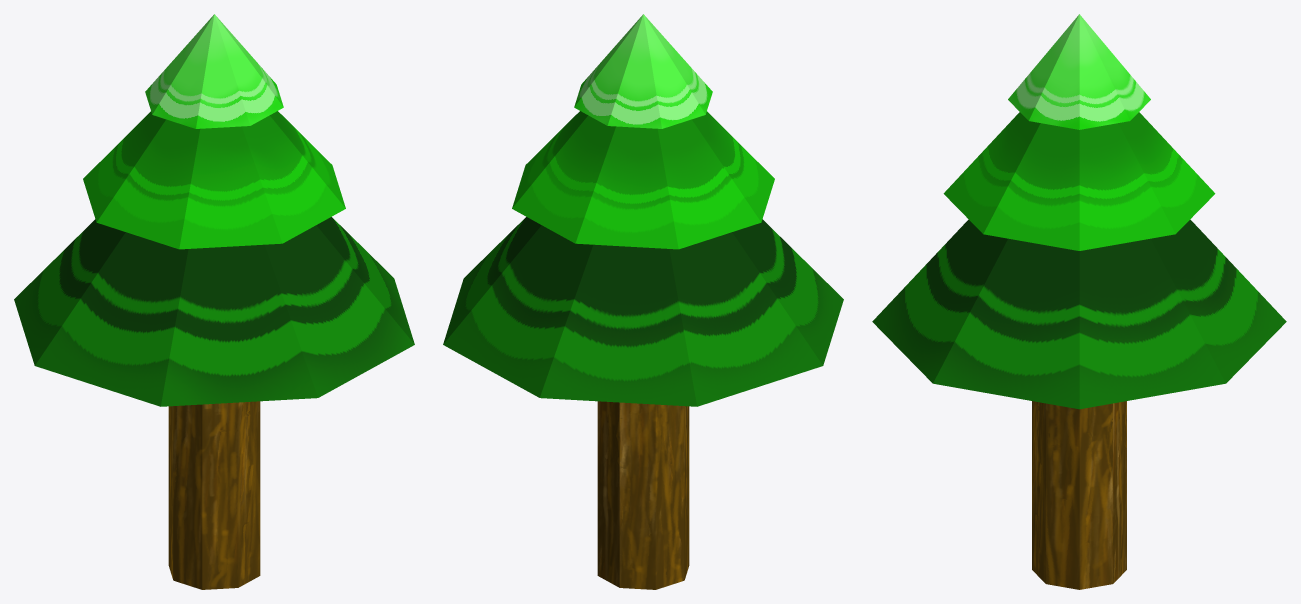
The model's file is Tree.fbx.
3 views of the same model, side by side, from view 1: azimuth 30°, elevation 25°; view 2: azimuth 150°, elevation 25°; view 3: azimuth 270°, elevation 25° (orthographic).
Parts seen in each view (by area): view 1: pCylinder1; view 2: pCylinder1; view 3: pCylinder1.
Part boxes in pixels (left/top/right/bottom): pCylinder1: left=14, top=14, right=414, bottom=589; pCylinder1: left=443, top=14, right=843, bottom=589; pCylinder1: left=872, top=14, right=1286, bottom=589.
Size of the model in its own units: 8.74 by 12.93 by 8.74.
1 material, 1 textured.
